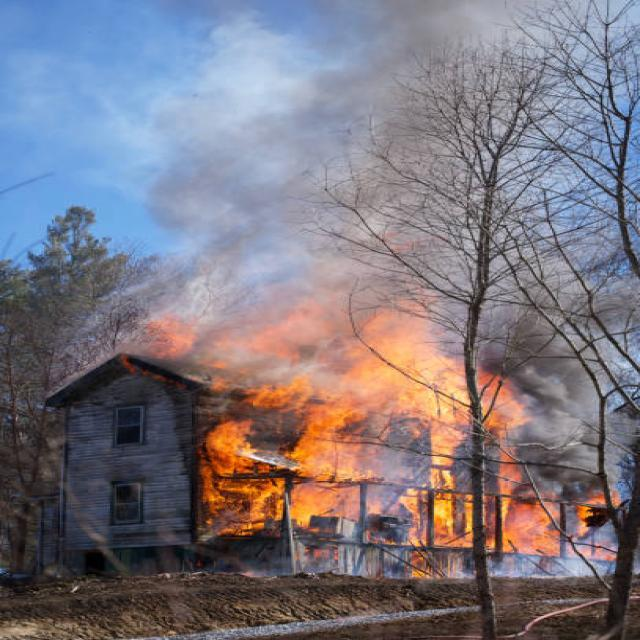Fire: (164, 292, 510, 546)
Smoke: (146, 58, 499, 345)
